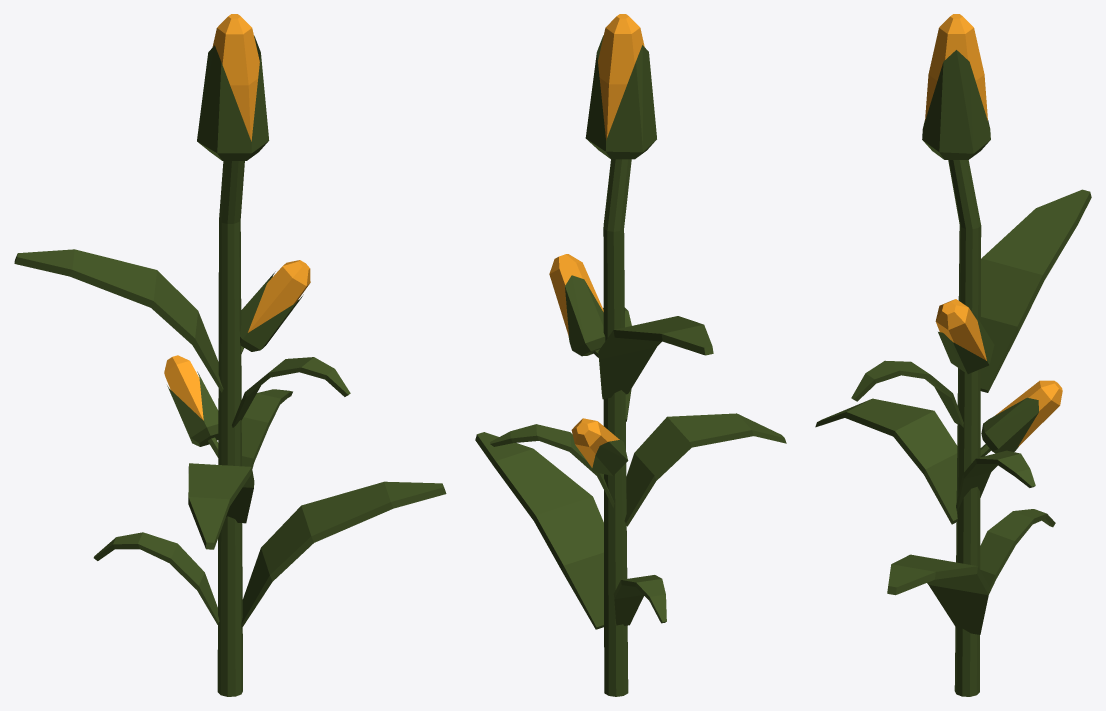
File: Corn_3.fbx
3 renders of one model, left to right at view 1: azimuth 30°, elevation 25°; view 2: azimuth 150°, elevation 25°; view 3: azimuth 270°, elevation 25°, orthographic.
Visible parts, largest first — view 1: Corn_3; view 2: Corn_3; view 3: Corn_3.
Boxes of the visible parts, box(x1,y1,x2,y2) form: Corn_3: box(14, 14, 446, 696); Corn_3: box(475, 14, 786, 696); Corn_3: box(815, 14, 1091, 696).
Bounding box in the file's own units: 99.44 × 192 × 71.37.
